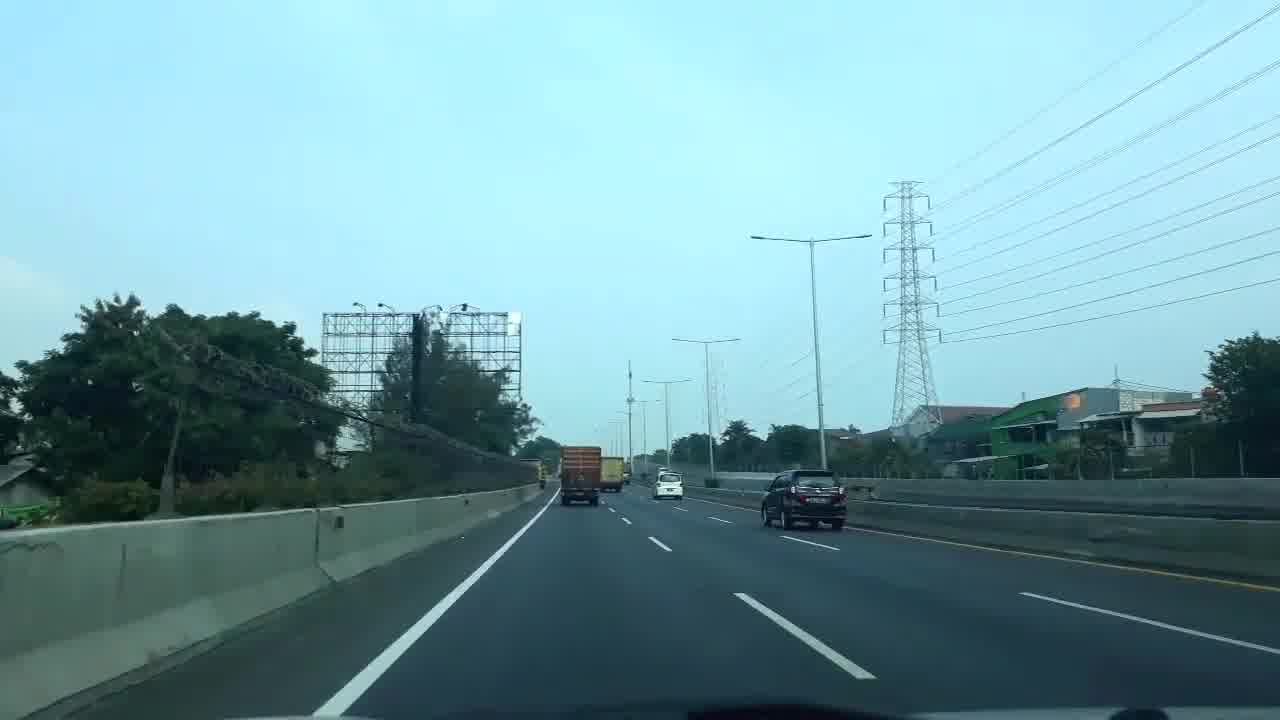plate_positive: (809, 497, 829, 503), (667, 488, 675, 492)
